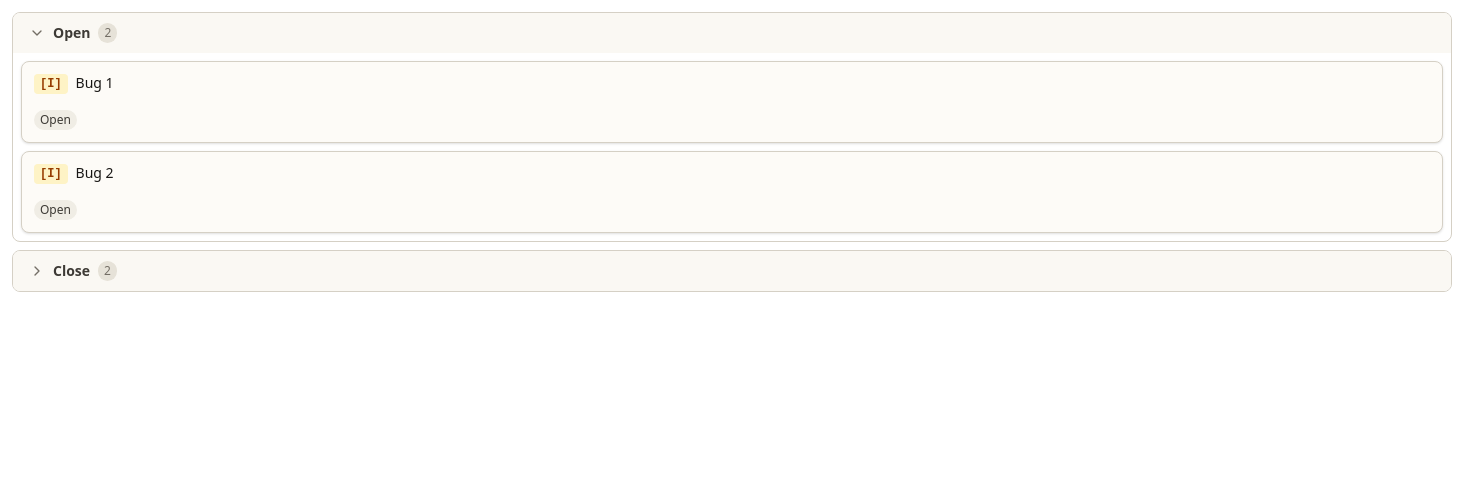
Test: BoardListView › mobile mode › should expand Close group on click in mobile
The width and height of the screenshot is (1464, 481).
// Click the Close column header (font-semibold)
Step 1. Click the text "Close" → (72, 271), box [53, 261, 90, 281]
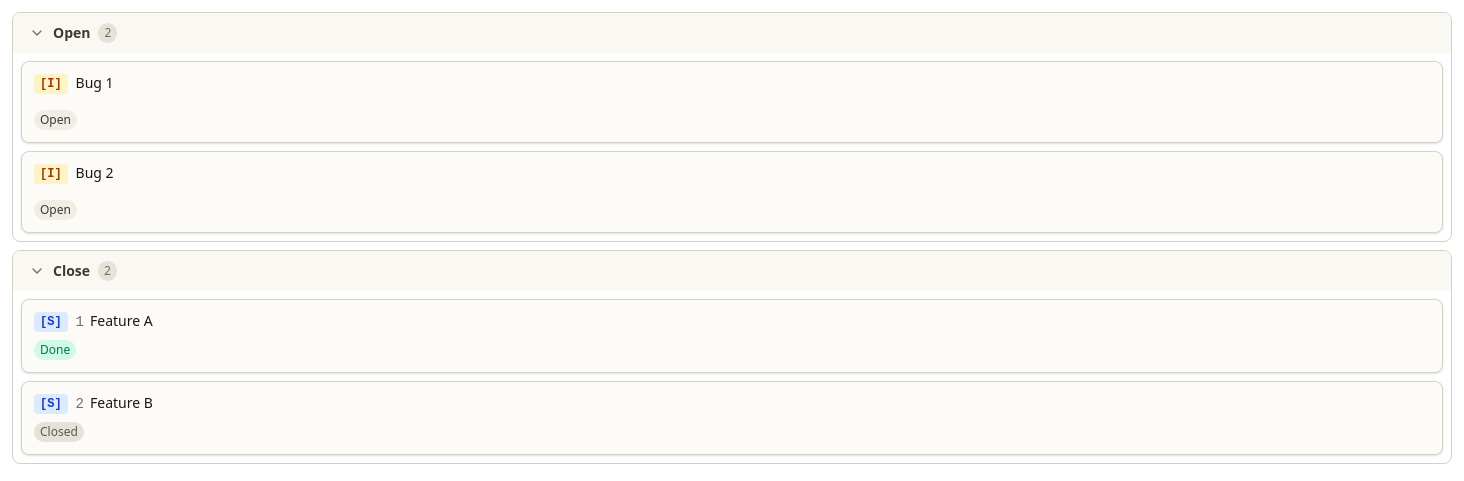
Now the text "Feature A" is shown, box [90, 311, 153, 330]
